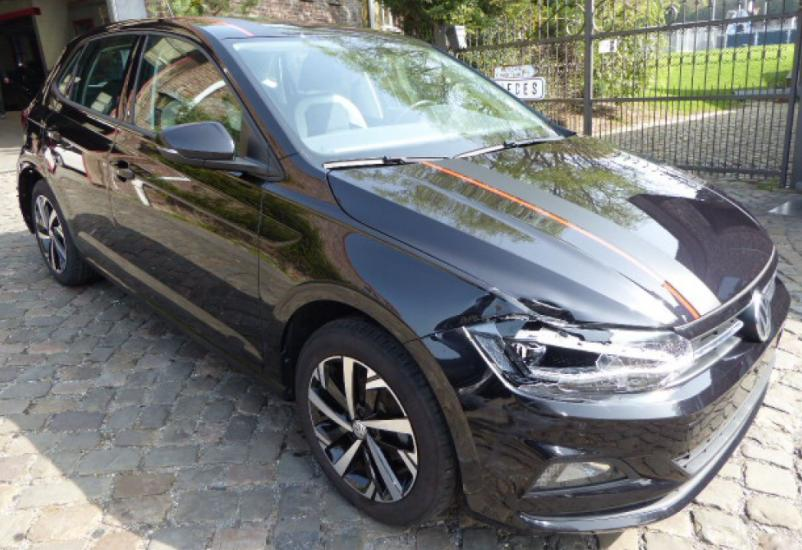Back-door: (33, 30, 143, 287)
Back-wheel: (32, 182, 100, 289)
Back-window: (62, 29, 141, 121)
Fender: (259, 156, 538, 398)
Front-bumper: (404, 278, 791, 533)
Front-door: (112, 29, 269, 383)
Front-wheel: (293, 311, 459, 529)
Front-window: (131, 31, 269, 162)
Grille: (690, 278, 776, 368)
Headlight: (469, 316, 694, 398)
Hood: (326, 137, 779, 330)
Mirror: (161, 125, 258, 171)
Quarter-panel: (15, 85, 64, 220)
Roof: (75, 16, 368, 39)
Tail-light: (23, 109, 32, 127)
Windshield: (225, 29, 567, 176)
